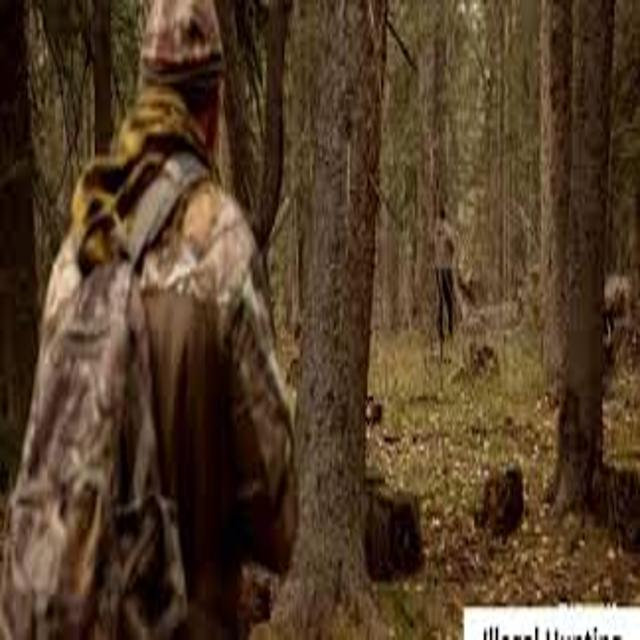backpack: (1, 190, 283, 640)
poacher: (2, 2, 368, 640), (394, 166, 515, 382)
